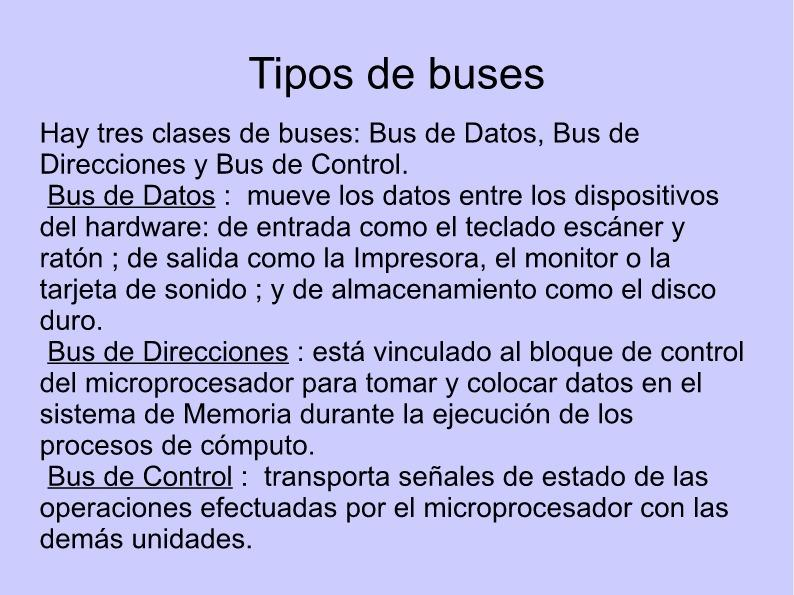paragraph: (31, 113, 759, 562)
title: (238, 43, 551, 104)
